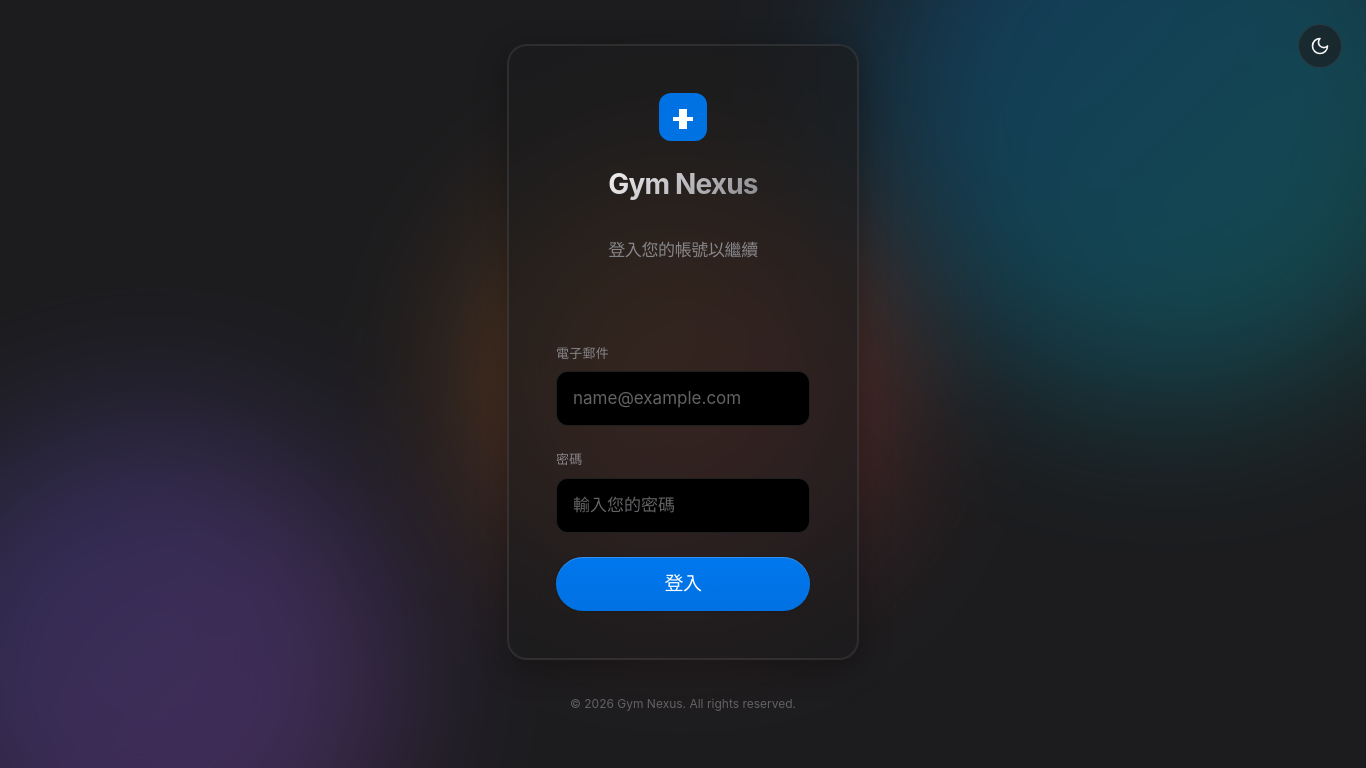
Test: Login Page › 表單驗證 › 應該在只填寫密碼時顯示錯誤
Type "password123" into the password field labelled "密碼" at {"x": 683, "y": 505}, box [556,478,810,532]
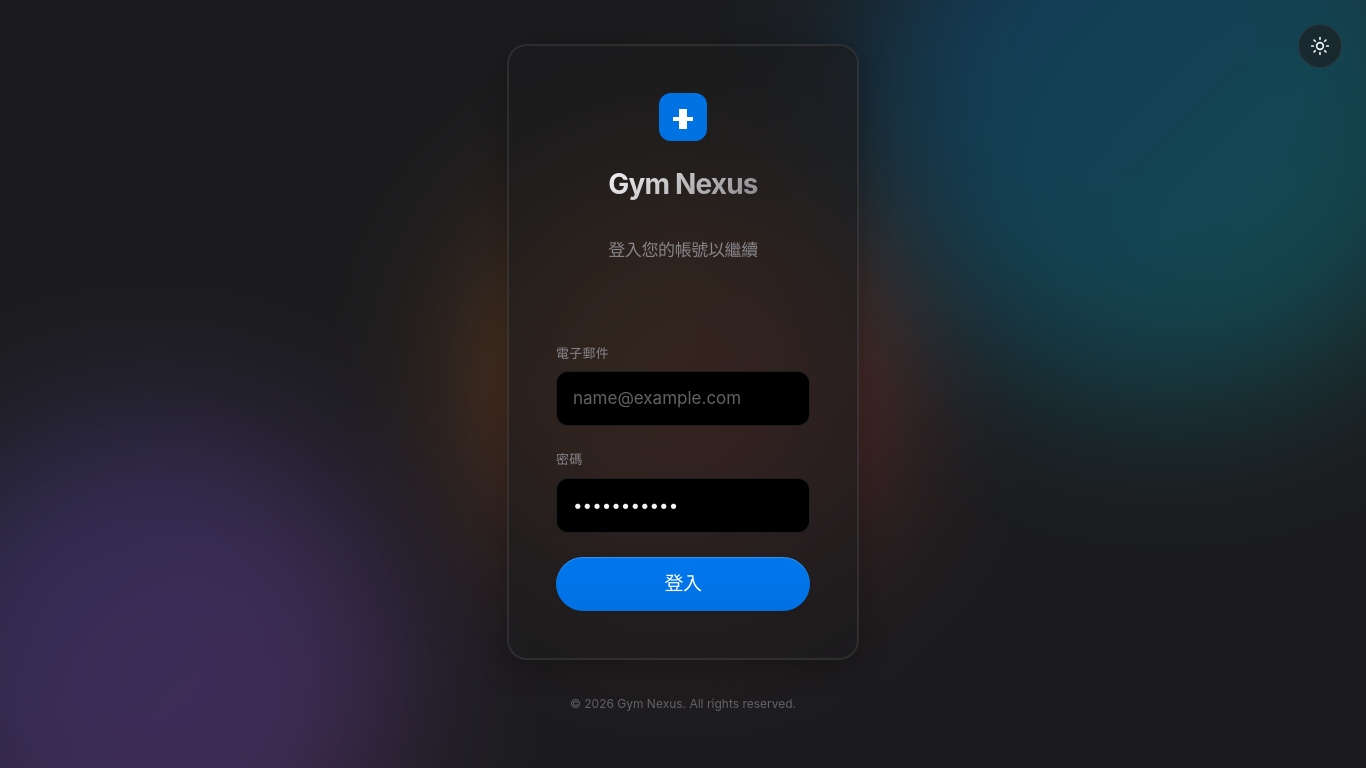
Submit the form, box [556,344,810,611]
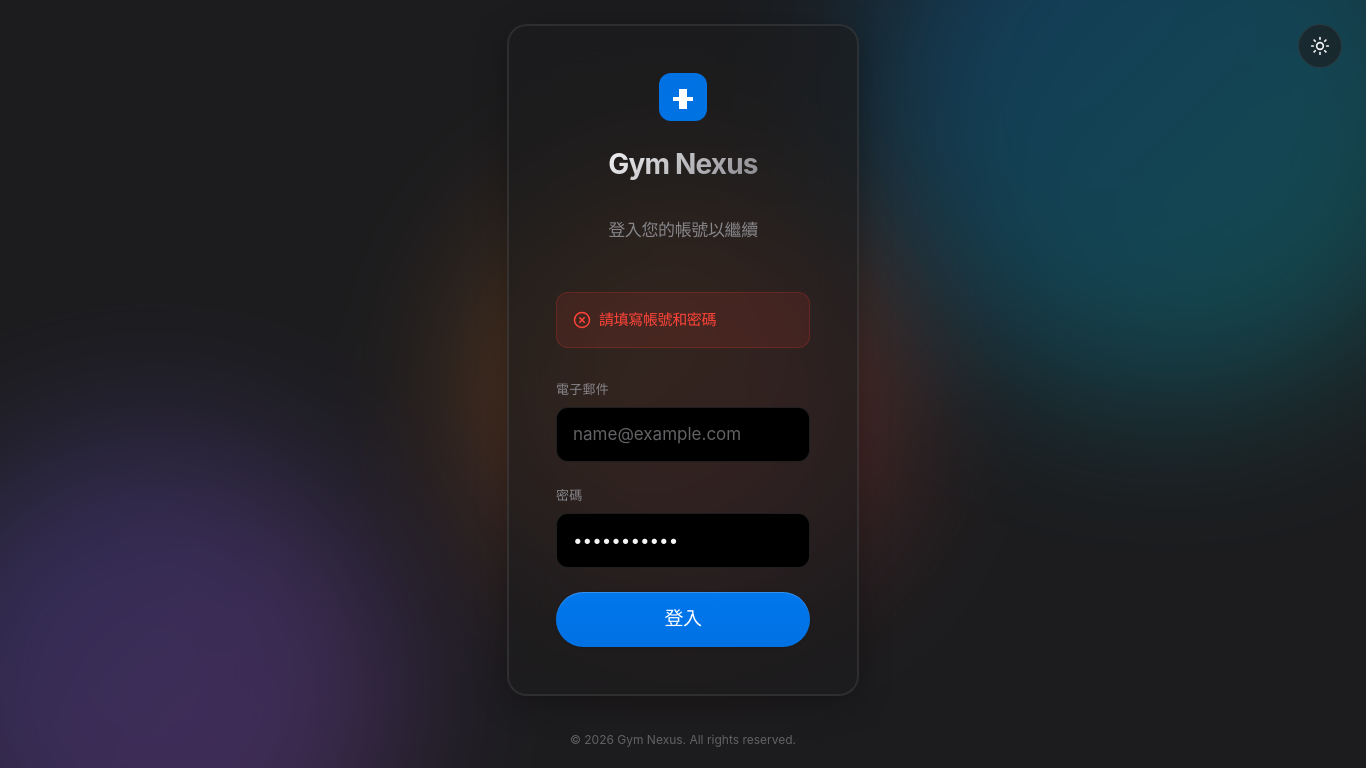
Expected: the element with class "error-banner" is shown, [556,292,810,348]
